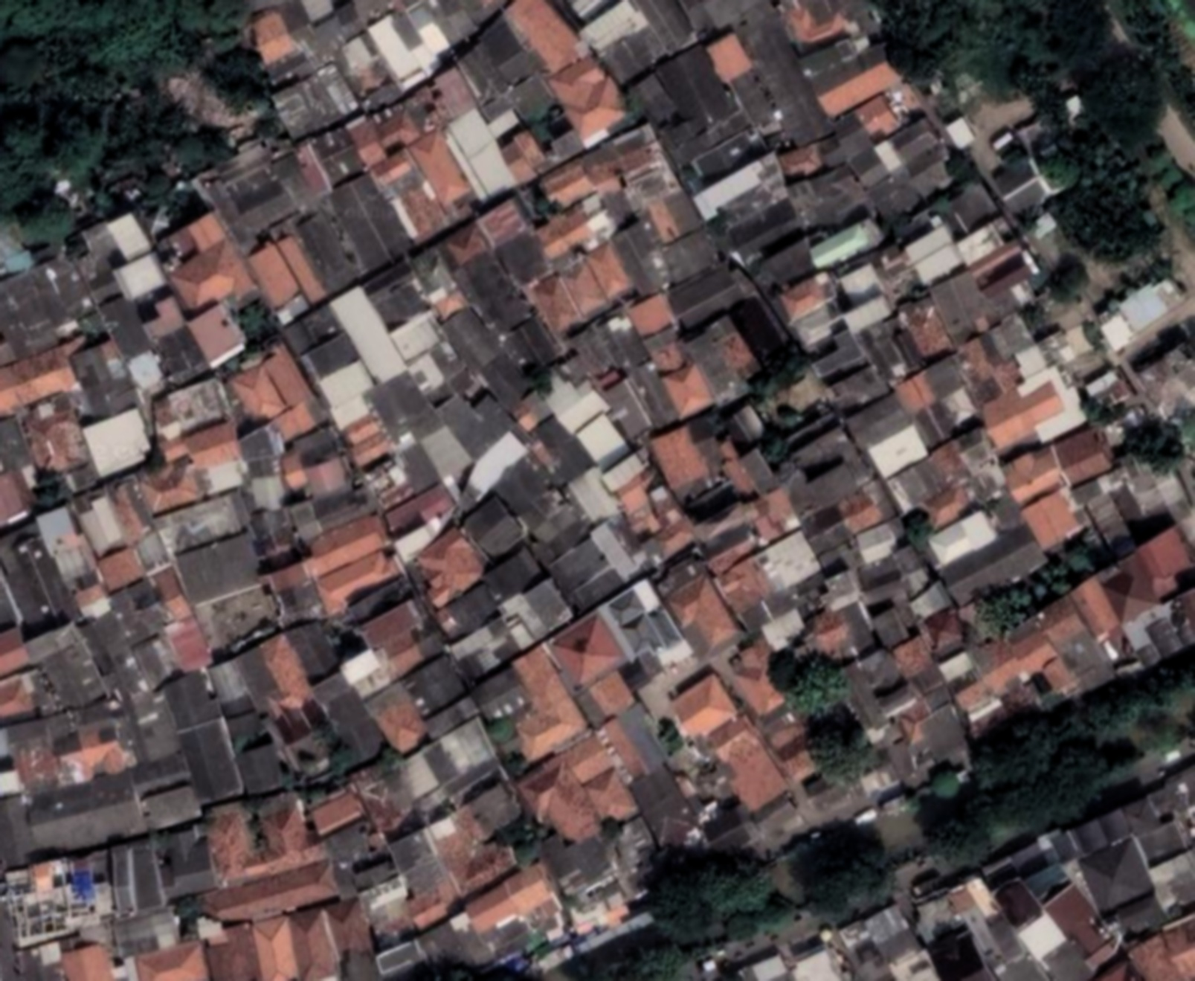building: (1010, 764, 1194, 980), (345, 68, 520, 246), (704, 0, 833, 162), (824, 77, 965, 224), (561, 118, 701, 266), (981, 836, 1122, 981), (407, 858, 573, 981), (1066, 797, 1195, 949), (543, 573, 686, 701), (196, 121, 338, 248), (898, 867, 1054, 981), (1073, 806, 1195, 945), (511, 730, 641, 858), (357, 261, 469, 402), (730, 0, 835, 150), (1029, 572, 1146, 697), (714, 521, 837, 638), (442, 574, 575, 682), (230, 612, 350, 726), (480, 641, 591, 764), (430, 215, 536, 343), (198, 784, 327, 889), (0, 245, 105, 371), (0, 843, 120, 952), (5, 699, 137, 797), (150, 207, 258, 322), (159, 664, 246, 806), (19, 767, 147, 862), (392, 712, 508, 816), (437, 299, 540, 416), (902, 422, 1014, 527), (1089, 517, 1195, 626), (767, 414, 876, 520), (793, 16, 902, 121), (658, 92, 770, 193), (574, 0, 701, 89), (524, 239, 638, 338), (649, 549, 747, 663), (886, 346, 992, 451), (935, 517, 1049, 614), (972, 359, 1085, 454), (199, 857, 341, 932), (542, 517, 645, 617), (512, 751, 610, 855), (688, 146, 797, 239), (31, 501, 116, 617), (447, 9, 545, 108), (80, 206, 172, 311), (322, 168, 412, 275), (702, 710, 793, 815), (1087, 262, 1187, 355), (830, 897, 940, 981), (544, 49, 636, 148), (326, 282, 412, 387), (22, 616, 110, 718), (362, 0, 458, 93), (678, 310, 768, 408), (890, 685, 981, 780), (342, 741, 434, 834), (838, 899, 942, 981), (0, 522, 76, 634), (457, 858, 560, 940), (652, 40, 739, 137), (1037, 876, 1126, 970), (308, 666, 390, 766), (402, 521, 493, 611), (644, 411, 733, 503), (287, 895, 382, 981), (438, 105, 519, 204), (967, 616, 1061, 699), (112, 651, 180, 764), (497, 0, 591, 81), (172, 529, 266, 609), (384, 821, 462, 917), (268, 60, 360, 141), (544, 608, 631, 693), (1075, 834, 1161, 919), (428, 376, 512, 462), (689, 147, 785, 222), (295, 507, 392, 581), (626, 760, 704, 852), (1125, 325, 1195, 427), (289, 204, 366, 296), (64, 334, 142, 424), (564, 305, 650, 386), (153, 487, 252, 557), (15, 393, 93, 481), (311, 543, 404, 616), (784, 160, 871, 238), (597, 699, 675, 785), (663, 257, 752, 332), (1117, 586, 1195, 671), (489, 450, 570, 531), (661, 666, 742, 745), (493, 574, 575, 650), (74, 597, 154, 674), (922, 264, 998, 345), (156, 409, 246, 477), (530, 192, 616, 262), (719, 196, 806, 265), (146, 373, 234, 441), (606, 215, 677, 299), (0, 343, 80, 417), (454, 427, 531, 503), (1126, 465, 1194, 550), (519, 484, 595, 560), (362, 678, 435, 757), (79, 405, 157, 478), (950, 326, 1020, 404), (102, 836, 168, 918), (457, 490, 530, 564), (985, 147, 1058, 221), (260, 553, 329, 631), (526, 410, 596, 486), (725, 289, 794, 366), (1116, 912, 1194, 980), (289, 423, 354, 504), (854, 311, 924, 386), (363, 11, 428, 91), (355, 594, 431, 662), (249, 2, 312, 84), (724, 638, 787, 720), (922, 505, 1002, 569), (365, 368, 436, 440), (539, 365, 610, 437), (181, 297, 251, 370), (751, 526, 824, 596), (804, 212, 886, 273), (1017, 482, 1087, 553), (735, 482, 806, 552), (398, 649, 470, 718), (996, 439, 1069, 507), (155, 823, 219, 900), (603, 119, 672, 190), (404, 245, 468, 321), (1048, 419, 1117, 489), (597, 809, 664, 881), (841, 387, 915, 452), (919, 921, 999, 981), (241, 236, 304, 312), (0, 903, 62, 980), (695, 795, 764, 864), (120, 689, 182, 765), (458, 771, 527, 839), (201, 803, 259, 883), (448, 834, 519, 898), (433, 579, 504, 643), (711, 551, 778, 618), (467, 662, 535, 728), (477, 542, 547, 606), (380, 479, 457, 537), (256, 339, 317, 412), (413, 421, 478, 489), (135, 454, 205, 517), (273, 228, 330, 305), (577, 0, 650, 60), (711, 552, 777, 618), (97, 290, 155, 365), (225, 359, 288, 428), (541, 836, 614, 895), (545, 534, 612, 598), (883, 452, 951, 515), (653, 225, 722, 287), (1065, 572, 1125, 643), (596, 371, 656, 442), (936, 173, 1001, 238), (146, 322, 210, 388), (502, 311, 566, 377), (834, 657, 888, 735), (619, 68, 681, 134), (972, 246, 1039, 307), (624, 359, 680, 431), (109, 906, 184, 959), (335, 409, 397, 473), (333, 31, 392, 98), (797, 454, 862, 514), (865, 421, 931, 480), (586, 517, 644, 584), (897, 293, 954, 361), (492, 227, 553, 290), (657, 356, 717, 420), (242, 4, 301, 69), (201, 919, 262, 981), (281, 301, 345, 360), (563, 465, 622, 529), (231, 733, 289, 798), (73, 490, 130, 556), (299, 328, 362, 387), (307, 123, 366, 186), (494, 123, 552, 187), (825, 358, 889, 416), (105, 475, 158, 545), (753, 233, 818, 290), (136, 778, 203, 833), (107, 576, 167, 637), (573, 410, 632, 471), (804, 326, 867, 383), (179, 417, 243, 473), (565, 885, 632, 938), (905, 887, 965, 946), (775, 269, 840, 323), (1032, 592, 1090, 652), (387, 307, 448, 364), (536, 155, 597, 212), (249, 913, 300, 981), (161, 612, 215, 676), (503, 70, 561, 129), (304, 784, 367, 838), (310, 482, 378, 532), (127, 749, 192, 801), (989, 873, 1045, 933), (303, 0, 365, 54), (868, 240, 922, 302), (559, 731, 617, 788), (700, 27, 756, 86), (748, 789, 808, 844), (318, 817, 378, 871), (689, 495, 755, 544), (390, 513, 453, 564), (356, 449, 414, 504), (843, 396, 901, 451), (127, 632, 181, 691), (316, 357, 375, 410), (777, 0, 849, 43), (710, 437, 759, 500), (798, 502, 853, 557), (851, 641, 905, 697), (897, 215, 955, 267), (950, 423, 1002, 481), (850, 517, 908, 569), (430, 0, 497, 45), (135, 939, 208, 980), (419, 692, 480, 741), (584, 667, 638, 722), (1082, 490, 1132, 549), (885, 626, 939, 680), (103, 207, 154, 264), (414, 916, 467, 970), (1080, 362, 1135, 414), (623, 289, 678, 340), (93, 541, 146, 593), (537, 158, 589, 210), (834, 486, 886, 538), (953, 219, 1008, 268), (148, 566, 194, 624), (616, 481, 662, 539), (135, 291, 187, 342), (918, 604, 970, 655), (235, 419, 288, 469), (394, 439, 442, 494), (864, 596, 912, 650), (795, 770, 849, 818), (815, 564, 866, 614), (597, 447, 650, 495), (873, 734, 921, 787), (987, 311, 1037, 361), (790, 303, 842, 351), (773, 734, 821, 786), (371, 934, 426, 979), (840, 291, 895, 336), (758, 606, 810, 653), (683, 0, 767, 29), (911, 241, 965, 286), (301, 453, 352, 500), (735, 443, 780, 496), (947, 669, 996, 717), (0, 795, 33, 866), (129, 528, 175, 578), (335, 642, 385, 688), (903, 577, 953, 623), (643, 327, 689, 377), (223, 705, 269, 754), (381, 634, 430, 679), (124, 346, 169, 394), (270, 399, 318, 444), (348, 851, 399, 893), (260, 557, 312, 598), (611, 472, 658, 517), (1036, 654, 1081, 701), (580, 147, 623, 196), (960, 871, 1003, 920), (836, 260, 883, 304), (618, 650, 665, 694), (652, 516, 700, 559), (808, 610, 850, 658), (873, 679, 921, 721), (62, 942, 115, 980), (776, 140, 825, 181), (406, 888, 453, 930), (792, 944, 846, 980), (1107, 482, 1148, 529), (509, 390, 552, 434), (72, 580, 114, 623), (729, 400, 769, 445), (201, 457, 248, 495), (860, 569, 909, 605), (0, 416, 31, 472), (247, 472, 288, 514), (76, 920, 117, 960), (0, 472, 30, 526), (0, 672, 35, 718), (1011, 342, 1051, 382), (738, 949, 789, 980), (61, 458, 102, 496), (735, 597, 776, 635), (935, 647, 977, 684), (272, 0, 314, 35), (0, 626, 28, 676), (426, 811, 461, 843), (900, 563, 933, 596), (326, 337, 359, 369), (352, 0, 395, 23), (1172, 588, 1194, 629), (1037, 961, 1081, 981), (305, 353, 332, 379), (1099, 636, 1122, 664), (472, 145, 489, 170), (668, 217, 683, 238), (484, 137, 502, 154), (485, 203, 504, 215), (713, 561, 729, 575), (448, 844, 464, 857), (719, 552, 746, 559), (161, 421, 179, 430), (512, 235, 531, 243), (486, 206, 496, 217)
tree: (976, 724, 1133, 853), (1036, 163, 1167, 294), (52, 5, 245, 72), (1062, 648, 1195, 739), (1075, 50, 1175, 157), (793, 826, 903, 923), (700, 848, 797, 953), (869, 0, 978, 93), (962, 697, 1066, 791), (963, 549, 1060, 645), (1119, 0, 1195, 110), (639, 847, 722, 944), (778, 645, 861, 724), (107, 82, 190, 159), (192, 43, 271, 123), (916, 791, 996, 869), (802, 705, 880, 785), (37, 97, 116, 175), (1017, 0, 1110, 66), (1133, 132, 1195, 217), (591, 929, 689, 981), (0, 14, 62, 96), (1009, 56, 1074, 134), (5, 101, 51, 206), (135, 157, 193, 217), (753, 398, 806, 462), (304, 713, 355, 778), (1131, 411, 1183, 466), (1050, 132, 1104, 184), (14, 198, 72, 246), (175, 119, 231, 167), (753, 353, 807, 398), (1044, 267, 1092, 313), (61, 68, 119, 101), (1077, 398, 1129, 434), (32, 471, 73, 507), (240, 303, 275, 340), (519, 366, 550, 401), (1015, 208, 1044, 236), (928, 189, 958, 214), (951, 154, 976, 183), (905, 511, 925, 547)
